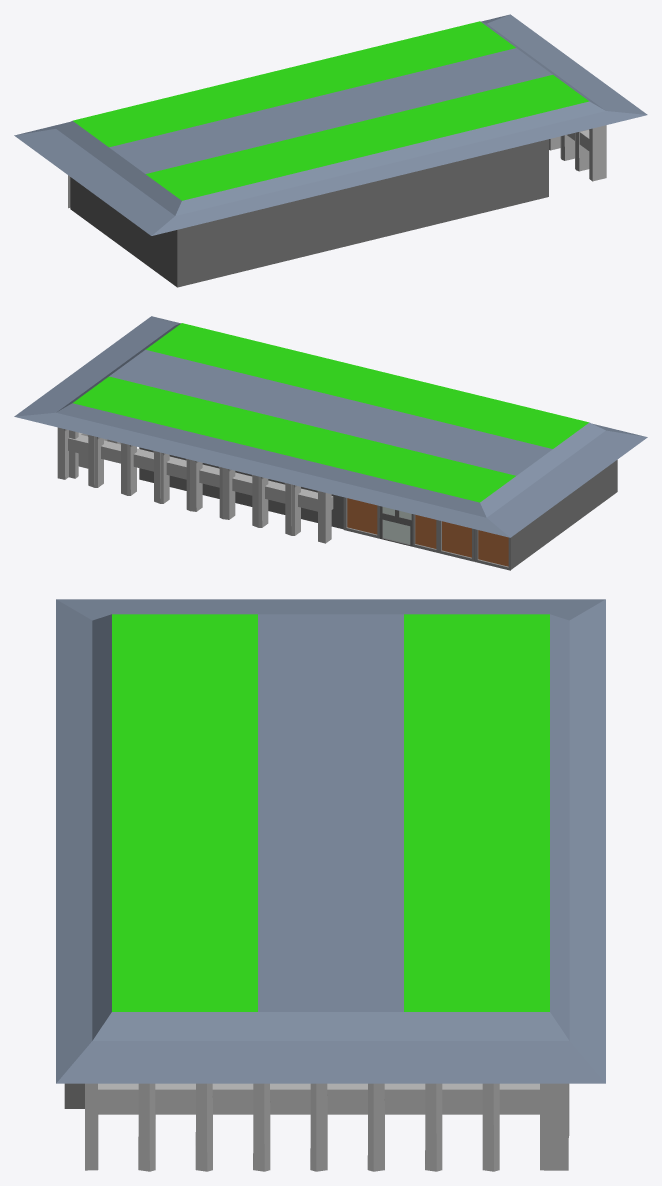
The model's file is ecolecnam.fbx.
The picture shows the model from 3 angles, top to bottom: view 1: azimuth 30°, elevation 25°; view 2: azimuth 150°, elevation 25°; view 3: azimuth 270°, elevation 25°; orthographic projection. The views are drawn at different scales.
Parts seen in each view (by area): view 1: Plan.010; view 2: Plan.010; view 3: Plan.010.
Boxes of the visible parts, x1=… form: Plan.010: x1=14, y1=14, x2=647, y2=287; Plan.010: x1=14, y1=316, x2=647, y2=570; Plan.010: x1=56, y1=599, x2=605, y2=1171.
Size of the model in its own units: 2451 by 1176 by 352.
